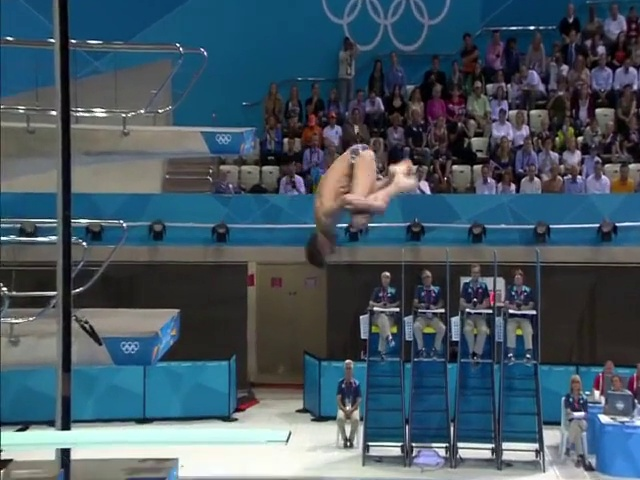diver: (305, 144, 419, 269)
